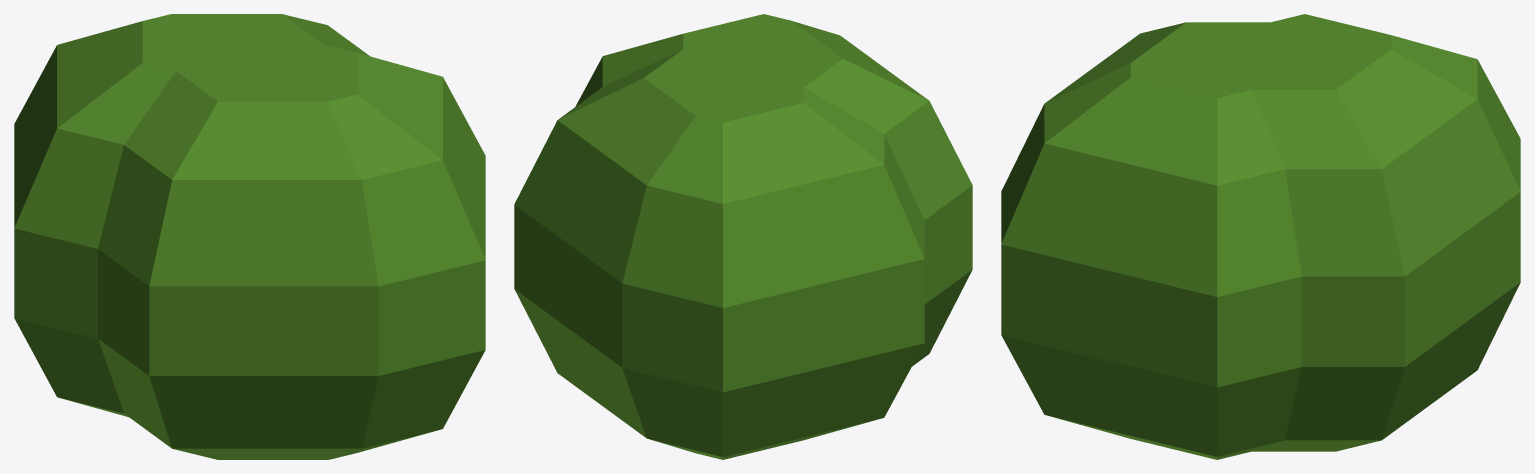
The model's file is Hilly_Prop_Bush_4.obj.
3 renders of one model, left to right at view 1: azimuth 30°, elevation 25°; view 2: azimuth 150°, elevation 25°; view 3: azimuth 270°, elevation 25°, orthographic. The views are drawn at different scales.
Parts seen in each view (by area): view 1: object1; view 2: object1; view 3: object1.
Boxes of the visible parts, box(x1,y1,x2,y2) form: object1: box(14, 14, 485, 459); object1: box(514, 14, 972, 459); object1: box(1001, 14, 1520, 459).
Bounding box in the file's own units: 1 × 0.8 × 1.04.
